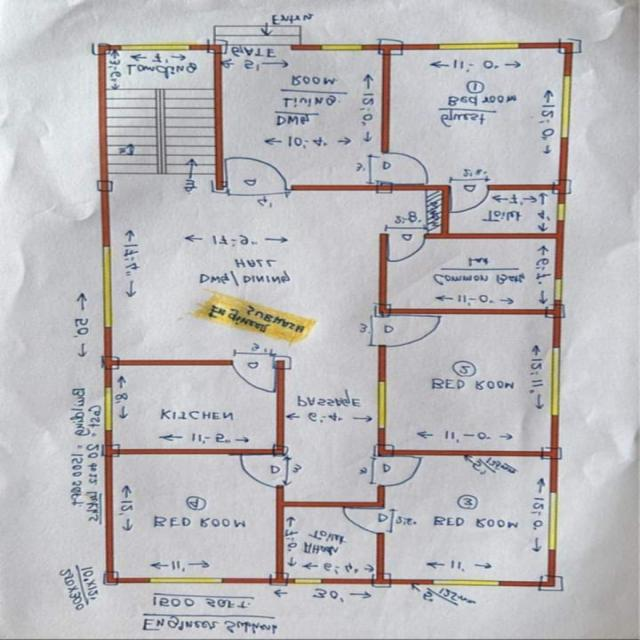column: (556, 37, 584, 56), (538, 576, 564, 592), (540, 446, 566, 462), (550, 180, 576, 196), (205, 178, 231, 194), (89, 40, 112, 58), (378, 40, 403, 56), (544, 302, 566, 320), (100, 570, 123, 587), (94, 178, 116, 194), (374, 302, 396, 318), (372, 444, 396, 458), (266, 572, 290, 586), (376, 180, 398, 195), (205, 41, 227, 56), (270, 444, 292, 459), (102, 443, 122, 458), (274, 354, 294, 368), (371, 574, 391, 588), (101, 356, 119, 370)
